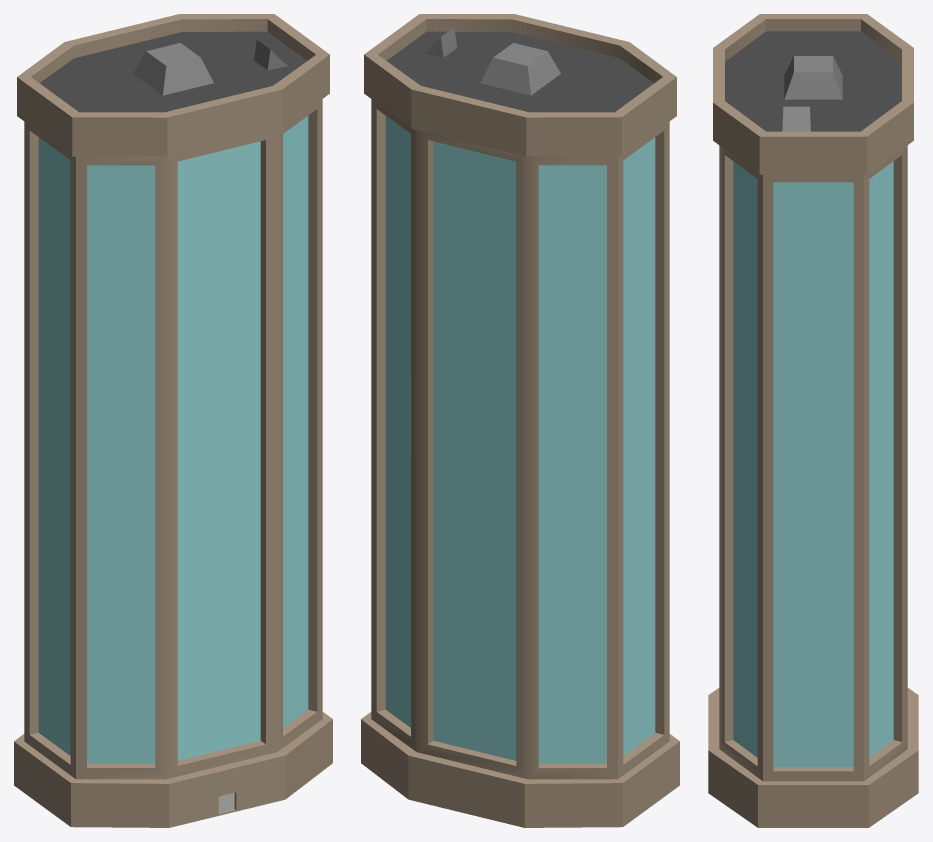
Rendered from SkyScraper 7.fbx.
3 views of the same model, side by side, from view 1: azimuth 30°, elevation 25°; view 2: azimuth 150°, elevation 25°; view 3: azimuth 270°, elevation 25° (orthographic). The views are drawn at different scales.
Visible parts, largest first — view 1: pCube43; view 2: pCube43; view 3: pCube43.
Boxes of the visible parts, x1,y1,x2,y2 form: pCube43: (14, 14, 332, 827); pCube43: (361, 14, 679, 827); pCube43: (708, 14, 918, 827).
Size of the model in its own units: 20.81 by 54.62 by 14.83.
